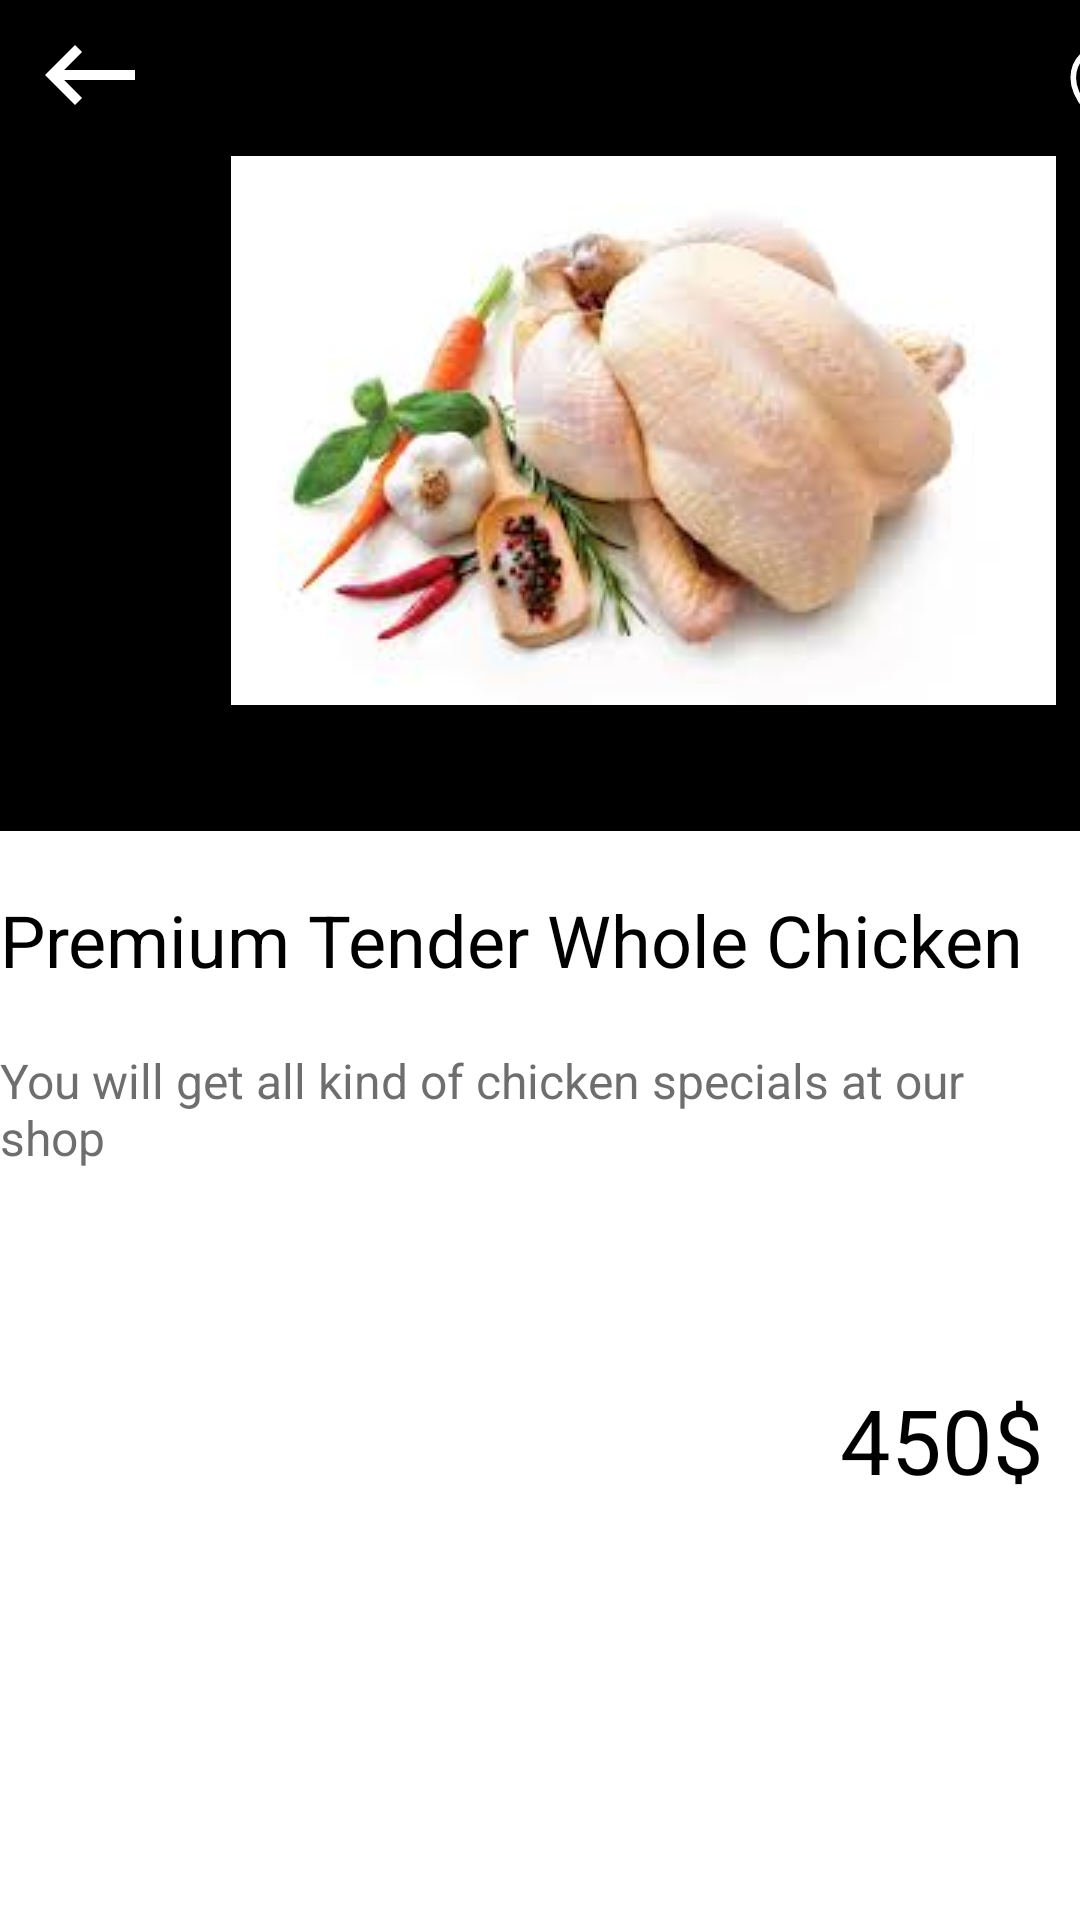

Point at icon controls on the screen. Image size 1080px×1920px, points as point (x, y).
left arrow: point (90, 75)
